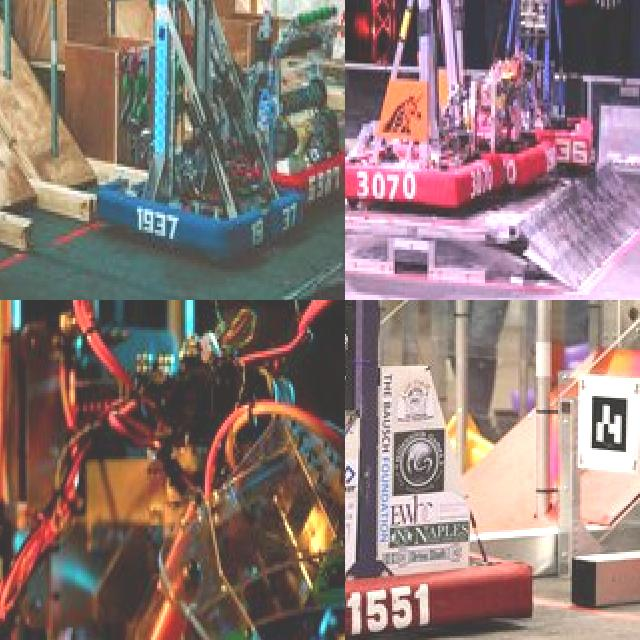FRC-Robots: (0, 300, 345, 640), (345, 300, 598, 640), (98, 0, 304, 274), (345, 0, 512, 271), (229, 0, 345, 212), (506, 0, 606, 165), (476, 59, 570, 212)
